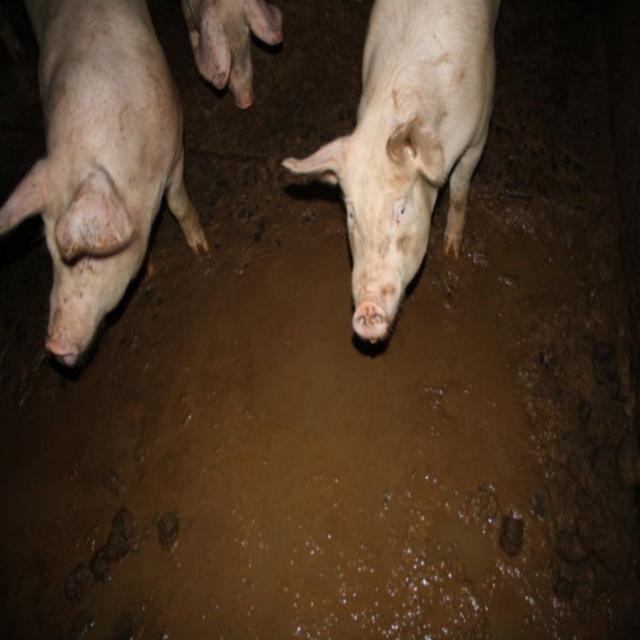Pig: (0, 0, 211, 366), (280, 0, 500, 342), (182, 0, 283, 109)
